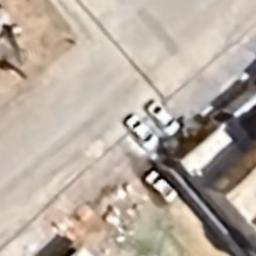sedan: (122, 112, 162, 150), (145, 98, 182, 136), (142, 168, 180, 204)
